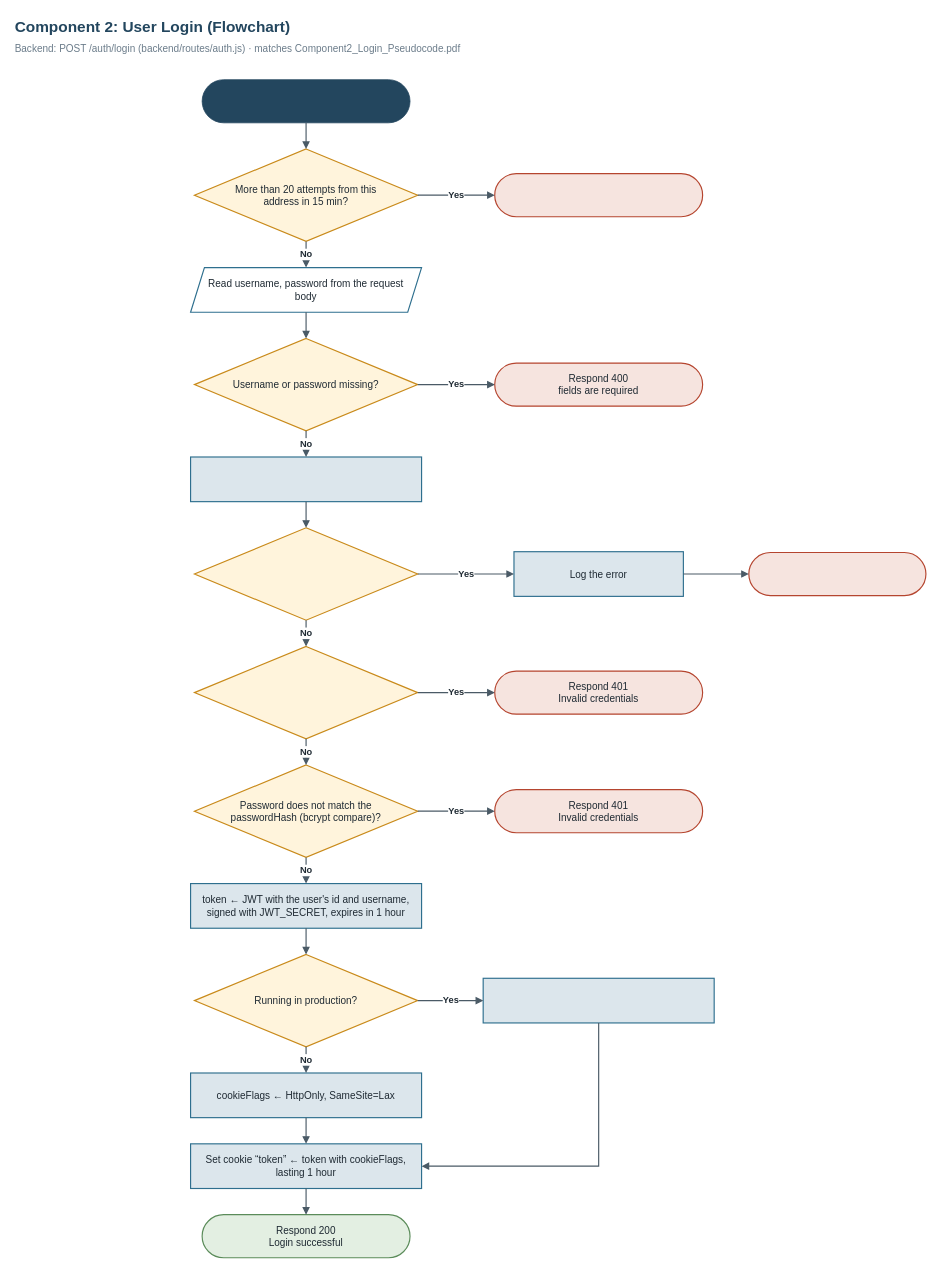
This 939x1271 diagram has some shape labels left out. The shapes that lost their labels are listed below. From the top down, each one's centre as x and y in pixels, then its label:
At (x=305, y=101): "Start: POST /auth/login".
At (x=598, y=195): "Respond 429 Too many attempts".
At (x=306, y=479): "Look up the user whose username matches (id, username, passwordHash)".
At (x=306, y=573): "Lookup failed?".
At (x=837, y=574): "Respond 500 Failed to login".
At (x=306, y=692): "No user found?".
At (x=598, y=1000): "cookieFlags ← HttpOnly, Secure, SameSite=None, Partitioned".
